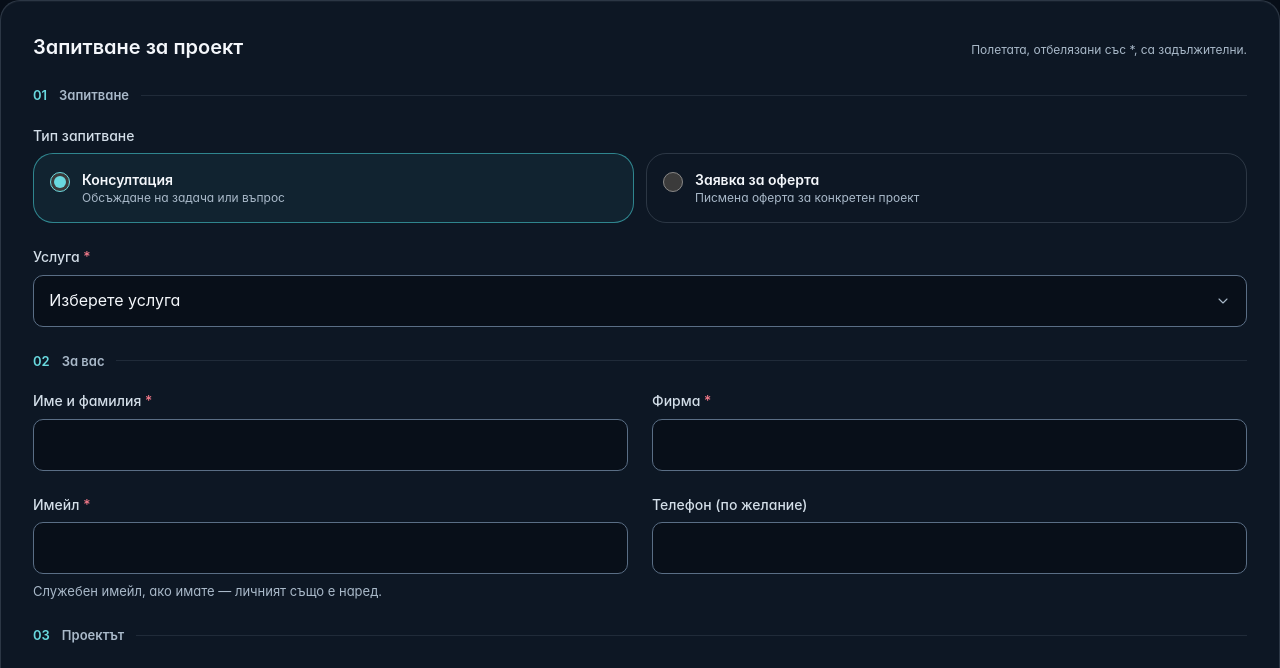
ContactForm — quote requests › shows the quote fields only for quote requests
This screenshot has width=1280, height=668.
Click the radio button labelled "Заявка за оферта Писмена оферта за конкретен проект" at (673, 182), box [663,172,683,192]
(page scrolled)
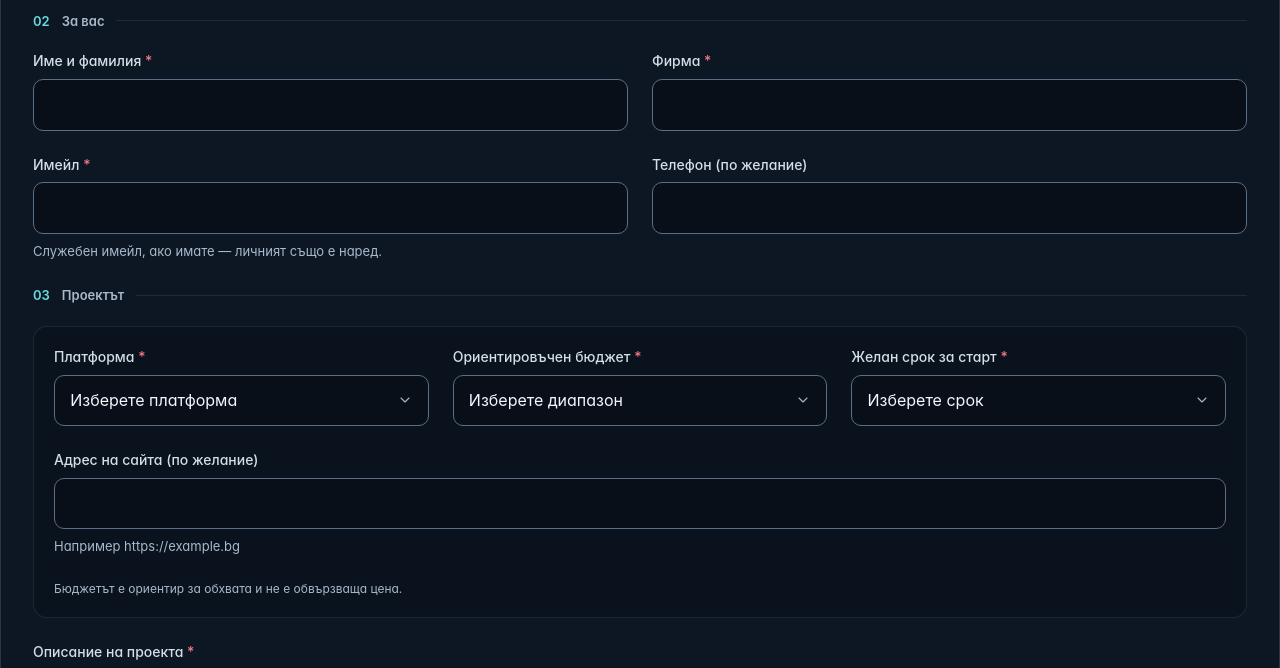
Result: the element with test id "quote-fields" is shown at [33,326,1247,618]
Result: the dropdown labelled "Платформа *" is shown at [54,375,429,426]
